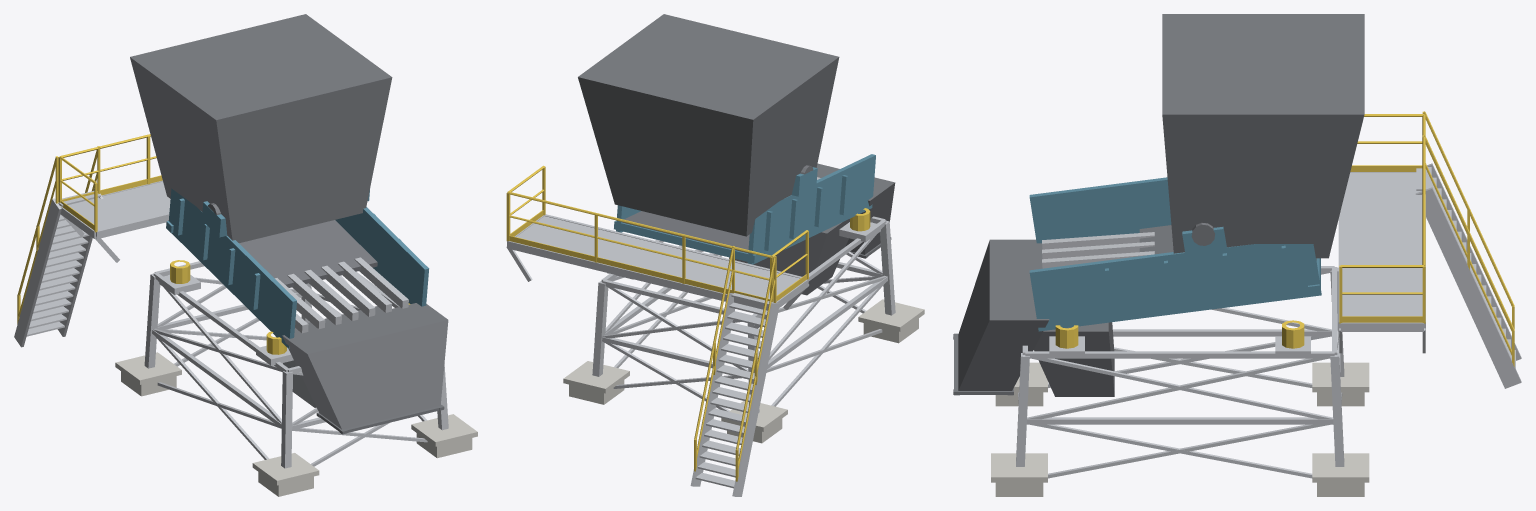
The model's file is ore-processing-and-haulage-plant-grizzly-feeder-d6626472.glb.
3 renders of one model, left to right at view 1: azimuth 30°, elevation 25°; view 2: azimuth 150°, elevation 25°; view 3: azimuth 270°, elevation 25°, orthographic. The views are drawn at different scales.
Parts seen in each view (by area): view 1: grizzly-feeder; view 2: grizzly-feeder; view 3: grizzly-feeder.
Boxes of the visible parts, bbox=[...] form: grizzly-feeder: bbox=[14, 14, 477, 496]; grizzly-feeder: bbox=[506, 14, 924, 496]; grizzly-feeder: bbox=[953, 14, 1521, 496].
Size of the model in its own units: 6.14 by 7 by 9.55.
